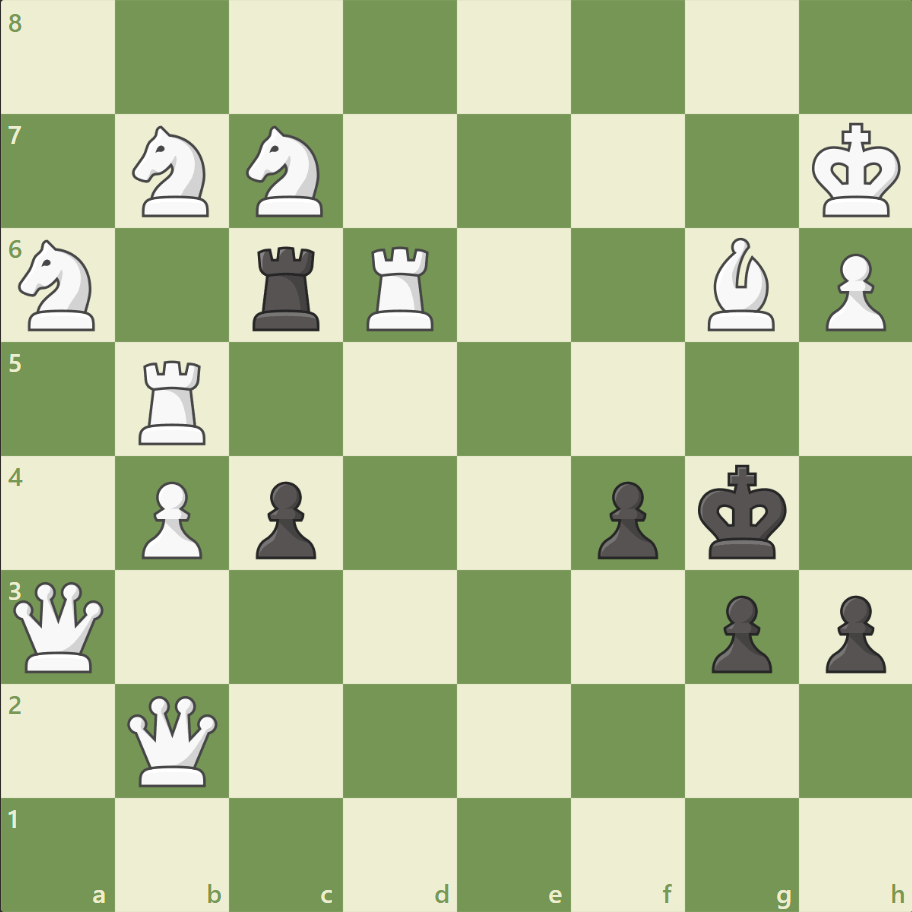B: (698, 233, 782, 336)
K: (806, 117, 906, 225)
N: (124, 121, 222, 223), (11, 234, 108, 337), (238, 121, 335, 223)
P: (133, 473, 208, 564), (815, 246, 889, 337)
Q: (10, 576, 109, 676), (124, 690, 223, 789)
R: (360, 239, 442, 336), (133, 352, 215, 449)
k: (692, 458, 792, 566)
p: (247, 473, 322, 564), (701, 586, 776, 677), (588, 473, 662, 564), (815, 586, 889, 677)
r: (246, 239, 329, 336)
